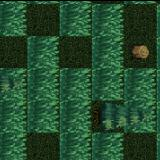Obstacle: (124, 35, 156, 67), (92, 99, 124, 131)
Slow: (28, 36, 61, 132), (92, 4, 124, 100), (59, 67, 92, 160), (0, 67, 27, 160), (124, 66, 156, 132), (61, 0, 92, 36), (0, 0, 27, 35), (92, 131, 124, 160)
